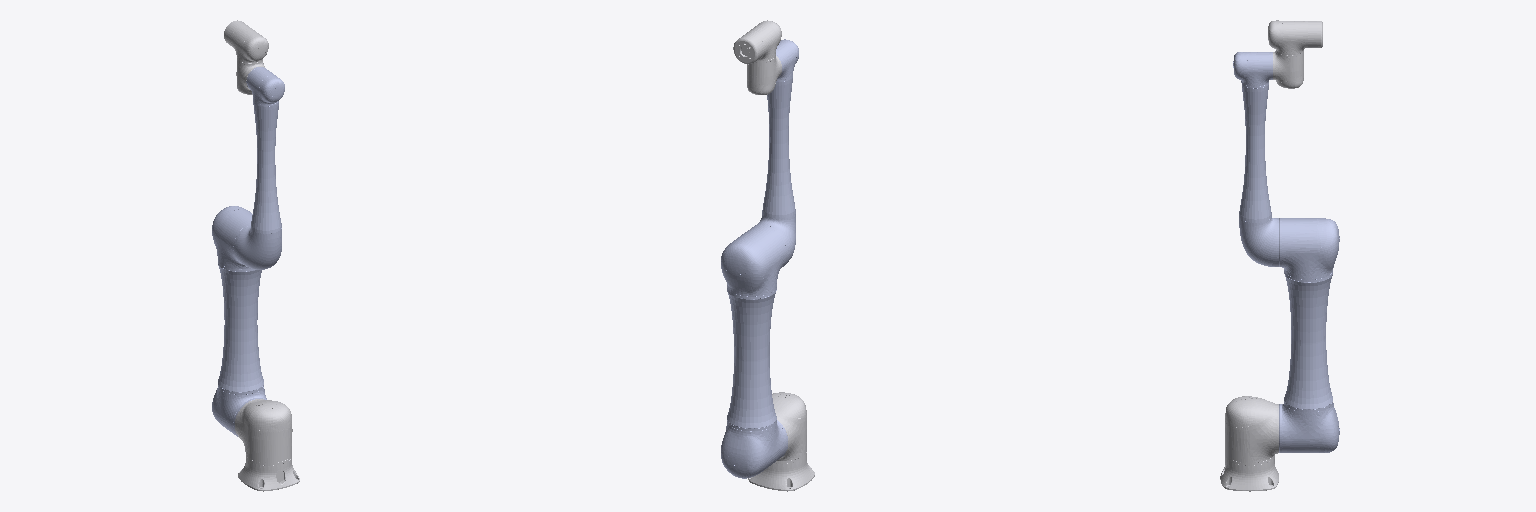
The robot description file, URDF, robot "urdf_export_fine":
<?xml version="1.0" encoding="utf-8"?>
<!-- This URDF was automatically created by SolidWorks to URDF Exporter! Originally created by Stephen Brawner (brawner@gmail.com) 
     Commit Version: 1.6.0-1-g15f4949  Build Version: 1.6.7594.29634
     For more information, please see http://wiki.ros.org/sw_urdf_exporter -->
<robot
  name="urdf_export_fine">
  <link
    name="base_link">
    <inertial>
      <origin
        xyz="4.3163324999613E-06 0.000741436838192648 0.0302846141473305"
        rpy="0 0 0" />
      <mass
        value="2.63871637181235" />
      <inertia
        ixx="0.00709133198072918"
        ixy="-1.03136804482247E-07"
        ixz="-6.7428367857794E-09"
        iyy="0.00722547440672918"
        iyz="-1.31357724324936E-06"
        izz="0.0118312310570505" />
    </inertial>
    <visual>
      <origin
        xyz="0 0 0"
        rpy="0 0 0" />
      <geometry>
        <mesh
          filename="package://urdf_export_fine/meshes/base_link.STL" />
      </geometry>
      <material
        name="">
        <color
          rgba="0.866666666666667 0.866666666666667 0.890196078431372 1" />
      </material>
    </visual>
    <collision>
      <origin
        xyz="0 0 0"
        rpy="0 0 0" />
      <geometry>
        <mesh
          filename="package://urdf_export_fine/meshes/base_link.STL" />
      </geometry>
    </collision>
  </link>
  <link
    name="link1">
    <inertial>
      <origin
        xyz="-1.93270315150299E-06 0.00699540285035744 0.091612362466653"
        rpy="0 0 0" />
      <mass
        value="9.5855065693217" />
      <inertia
        ixx="0.0287374576541575"
        ixy="8.79026798730075E-08"
        ixz="1.11867768397583E-07"
        iyy="0.0279200663910249"
        iyz="-0.00300925420577015"
        izz="0.0295205990912007" />
    </inertial>
    <visual>
      <origin
        xyz="0 0 0"
        rpy="0 0 0" />
      <geometry>
        <mesh
          filename="package://urdf_export_fine/meshes/link1.STL" />
      </geometry>
      <material
        name="">
        <color
          rgba="0.866666666666667 0.866666666666667 0.890196078431372 1" />
      </material>
    </visual>
    <collision>
      <origin
        xyz="0 0 0"
        rpy="0 0 0" />
      <geometry>
        <mesh
          filename="package://urdf_export_fine/meshes/link1.STL" />
      </geometry>
    </collision>
  </link>
  <joint
    name="joint1"
    type="revolute">
    <origin
      xyz="0 0 0.0714999999999998"
      rpy="0 0 0" />
    <parent
      link="base_link" />
    <child
      link="link1" />
    <axis
      xyz="0 0 1" />
    <limit
      lower="-3.055"
      upper="3.055"
      effort="0"
      velocity="2.094" />
  </joint>
  <link
    name="link2">
    <inertial>
      <origin
        xyz="-6.92512832359528E-11 0.312499999997536 -0.0942738621247003"
        rpy="0 0 0" />
      <mass
        value="12.456148184564" />
      <inertia
        ixx="0.13462712638859"
        ixy="-6.50345020466735E-08"
        ixz="-1.88435215526725E-11"
        iyy="0.0310963035082728"
        iyz="2.06614154908866E-14"
        izz="0.135211566970402" />
    </inertial>
    <visual>
      <origin
        xyz="0 0 0"
        rpy="0 0 0" />
      <geometry>
        <mesh
          filename="package://urdf_export_fine/meshes/link2.STL" />
      </geometry>
      <material
        name="">
        <color
          rgba="0.792156862745098 0.819607843137255 0.933333333333333 1" />
      </material>
    </visual>
    <collision>
      <origin
        xyz="0 0 0"
        rpy="0 0 0" />
      <geometry>
        <mesh
          filename="package://urdf_export_fine/meshes/link2.STL" />
      </geometry>
    </collision>
  </link>
  <joint
    name="joint2"
    type="revolute">
    <origin
      xyz="0 0.0814999999999996 0.0978"
      rpy="1.5707963267949 0 0" />
    <parent
      link="link1" />
    <child
      link="link2" />
    <axis
      xyz="0 0 -1" />
    <limit
      lower="-3.055"
      upper="3.055"
      effort="0"
      velocity="2.094" />
  </joint>
  <link
    name="link3">
    <inertial>
      <origin
        xyz="2.3241894703748E-07 -0.056019386950218 0.238141379582962"
        rpy="0 0 0" />
      <mass
        value="4.39475927711572" />
      <inertia
        ixx="0.0477028051736364"
        ixy="-9.86495467514717E-09"
        ixz="-2.02217861098973E-07"
        iyy="0.0483642670704883"
        iyz="0.000972293217299549"
        izz="0.00512544654089055" />
    </inertial>
    <visual>
      <origin
        xyz="0 0 0"
        rpy="0 0 0" />
      <geometry>
        <mesh
          filename="package://urdf_export_fine/meshes/link3.STL" />
      </geometry>
      <material
        name="">
        <color
          rgba="0.792156862745098 0.819607843137255 0.933333333333333 1" />
      </material>
    </visual>
    <collision>
      <origin
        xyz="0 0 0"
        rpy="0 0 0" />
      <geometry>
        <mesh
          filename="package://urdf_export_fine/meshes/link3.STL" />
      </geometry>
    </collision>
  </link>
  <joint
    name="joint3"
    type="revolute">
    <origin
      xyz="0 0.625 0"
      rpy="-1.5707963267949 0 0" />
    <parent
      link="link2" />
    <child
      link="link3" />
    <axis
      xyz="0 1 0" />
    <limit
      lower="-3.055"
      upper="3.055"
      effort="0"
      velocity="2.094" />
  </joint>
  <link
    name="link4">
    <inertial>
      <origin
        xyz="2.30634476219987E-07 0.000625319427230098 0.0428796976310905"
        rpy="0 0 0" />
      <mass
        value="2.07275588176882" />
      <inertia
        ixx="0.002090030397728"
        ixy="2.88754150163962E-09"
        ixz="1.98935200407927E-08"
        iyy="0.00201403961884101"
        iyz="0.000183116622540094"
        izz="0.00204603244230732" />
    </inertial>
    <visual>
      <origin
        xyz="0 0 0"
        rpy="0 0 0" />
      <geometry>
        <mesh
          filename="package://urdf_export_fine/meshes/link4.STL" />
      </geometry>
      <material
        name="">
        <color
          rgba="0.866666666666667 0.866666666666667 0.890196078431372 1" />
      </material>
    </visual>
    <collision>
      <origin
        xyz="0 0 0"
        rpy="0 0 0" />
      <geometry>
        <mesh
          filename="package://urdf_export_fine/meshes/link4.STL" />
      </geometry>
    </collision>
  </link>
  <joint
    name="joint4"
    type="revolute">
    <origin
      xyz="0 -0.0055999910929887 0.595"
      rpy="-1.5707963267949 0 0" />
    <parent
      link="link3" />
    <child
      link="link4" />
    <axis
      xyz="0 0 1" />
    <limit
      lower="-3.055"
      upper="3.055"
      effort="0"
      velocity="3.1416" />
  </joint>
  <link
    name="link5">
    <inertial>
      <origin
        xyz="-2.30634476188549E-07 -0.000625319427230223 0.0428796976310915"
        rpy="0 0 0" />
      <mass
        value="2.07275588176887" />
      <inertia
        ixx="0.00209003038876621"
        ixy="2.8961089096888E-09"
        ixz="-1.98986836693696E-08"
        iyy="0.00201403961341206"
        iyz="-0.000183116625796231"
        izz="0.00204603242972203" />
    </inertial>
    <visual>
      <origin
        xyz="0 0 0"
        rpy="0 0 0" />
      <geometry>
        <mesh
          filename="package://urdf_export_fine/meshes/link5.STL" />
      </geometry>
      <material
        name="">
        <color
          rgba="0.866666666666667 0.866666666666667 0.890196078431372 1" />
      </material>
    </visual>
    <collision>
      <origin
        xyz="0 0 0"
        rpy="0 0 0" />
      <geometry>
        <mesh
          filename="package://urdf_export_fine/meshes/link5.STL" />
      </geometry>
    </collision>
  </link>
  <joint
    name="joint5"
    type="revolute">
    <origin
      xyz="0 -0.0591999999999999 0.0459999999999997"
      rpy="1.5707963267949 0 0" />
    <parent
      link="link4" />
    <child
      link="link5" />
    <axis
      xyz="0 0 1" />
    <limit
      lower="-3.055"
      upper="3.055"
      effort="0"
      velocity="3.1416" />
  </joint>
  <link
    name="link6">
    <inertial>
      <origin
        xyz="6.38032899738614E-09 5.1583714500536E-05 0.0239221490797276"
        rpy="0 0 0" />
      <mass
        value="0.321462494354558" />
      <inertia
        ixx="0.000246665859975963"
        ixy="1.86075977694508E-09"
        ixz="-3.33647607735427E-11"
        iyy="0.000216999269469325"
        iyz="-2.09089286713159E-07"
        izz="0.000368588284096483" />
    </inertial>
    <visual>
      <origin
        xyz="0 0 0"
        rpy="0 0 0" />
      <geometry>
        <mesh
          filename="package://urdf_export_fine/meshes/link6.STL" />
      </geometry>
      <material
        name="">
        <color
          rgba="0.866666666666667 0.866666666666667 0.890196078431372 1" />
      </material>
    </visual>
    <collision>
      <origin
        xyz="0 0 0"
        rpy="0 0 0" />
      <geometry>
        <mesh
          filename="package://urdf_export_fine/meshes/link6.STL" />
      </geometry>
    </collision>
  </link>
  <joint
    name="joint6"
    type="revolute">
    <origin
      xyz="0 0.0592 0.046"
      rpy="-1.5708 0 0" />
    <parent
      link="link5" />
    <child
      link="link6" />
    <axis
      xyz="0 0 1" />
    <limit
      lower="-3.1416"
      upper="3.1416"
      effort="0"
      velocity="3.1416" />
  </joint>
</robot>

--- Facts derived from the render (not from the file) ---
Views: 3 orthographic renders of the robot side by side, from view 1: azimuth 30°, elevation 25°; view 2: azimuth 150°, elevation 25°; view 3: azimuth 270°, elevation 25°.
Model urdf_export_fine with 7 links and 6 joints (6 revolute), rooted at base_link, posed every joint at zero.
Visible links, largest first — view 1: link2, link3, link1, base_link, link5; view 2: link2, link3, link1, base_link, link4, link5, link6; view 3: link2, link3, link1, base_link, link5, link4.
Boxes of the visible links, x1,y1,x2,y2 form: link2: [212, 206, 266, 436]; link3: [235, 67, 284, 269]; link1: [235, 399, 292, 465]; base_link: [238, 458, 299, 491]; link5: [230, 25, 268, 62]; link2: [721, 225, 787, 478]; link3: [755, 39, 798, 266]; link1: [772, 392, 806, 463]; base_link: [748, 455, 814, 491]; link4: [747, 56, 781, 94]; link5: [746, 20, 781, 60]; link6: [733, 33, 764, 64]; link2: [1279, 218, 1339, 452]; link3: [1233, 52, 1278, 266]; link1: [1225, 396, 1278, 465]; base_link: [1220, 456, 1278, 491]; link5: [1268, 20, 1307, 55]; link4: [1273, 51, 1303, 88].
Bounding box of the posed robot: 0.18 × 0.3633 × 1.54 m (x, y, z).
7 mesh visuals loaded from 7 distinct referenced files (7 binary STL).
